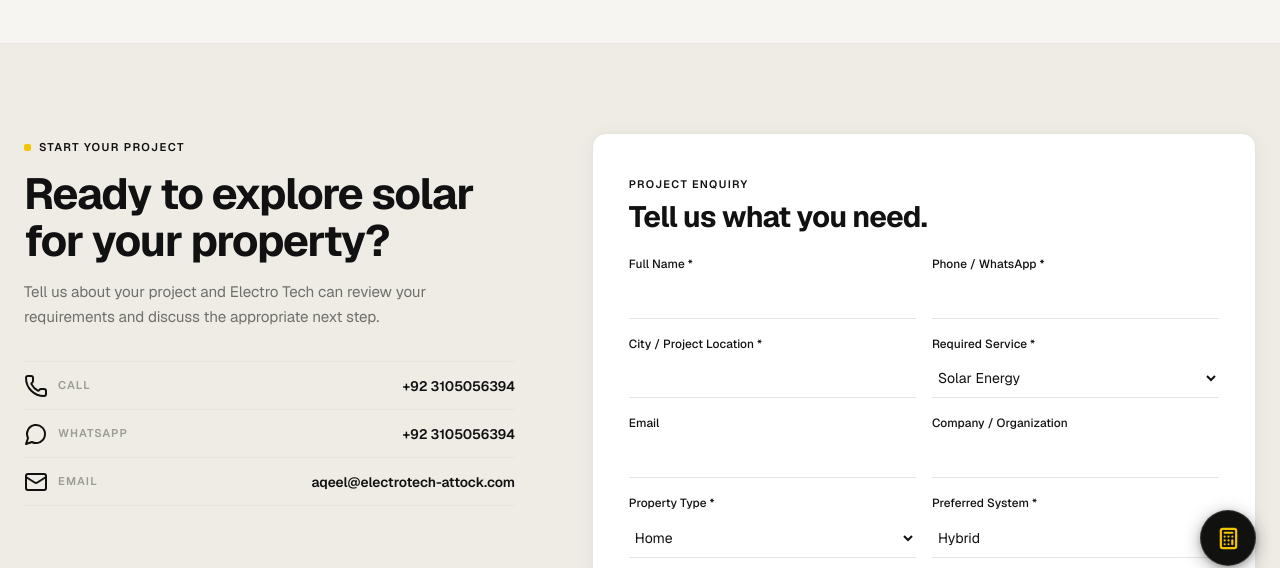
Scenario: email failure keeps the form and exposes the prepared WhatsApp fallback
(page scrolled)
Type "Test Customer" into the field labelled "Full Name *" at (772, 298), box [629, 278, 916, 318]
(page scrolled)
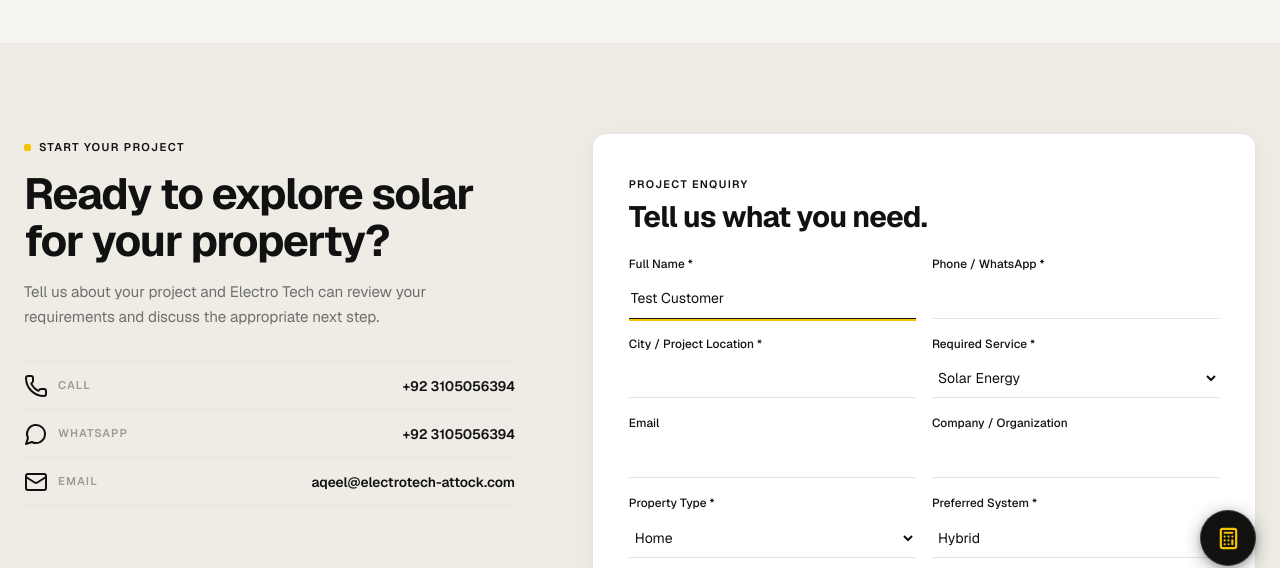
Type "+92 310 5056394" into the field labelled "Phone / WhatsApp *" at (1075, 298), box [932, 278, 1219, 318]
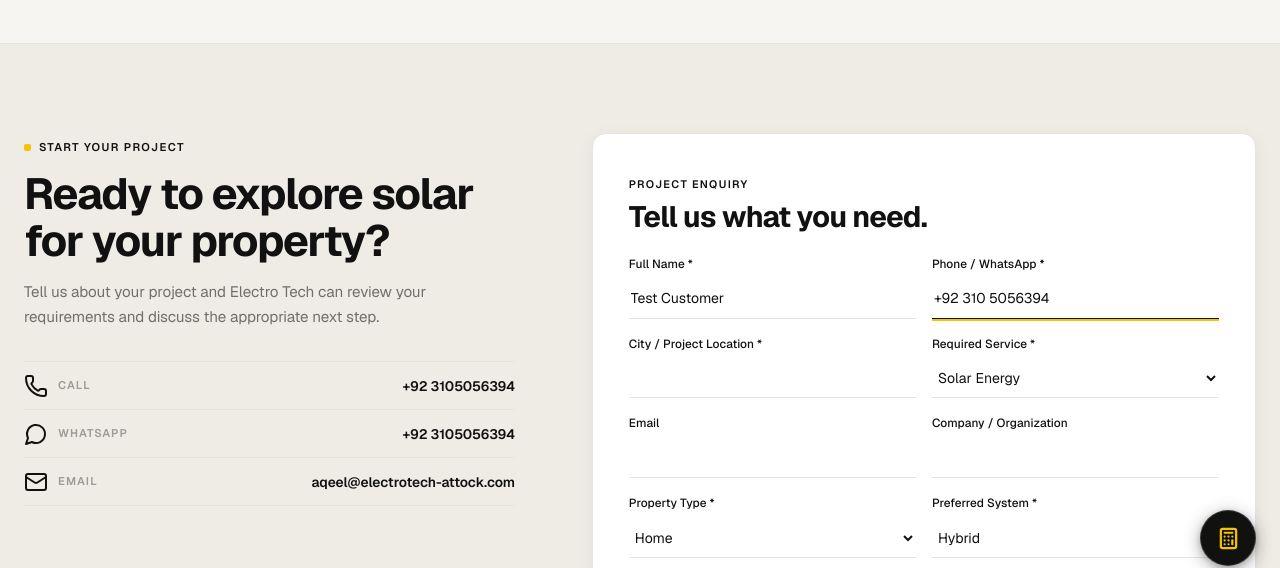
Type "Attock" into the field labelled "City / Project Location *" at (772, 378), box [629, 358, 916, 398]
(page scrolled)
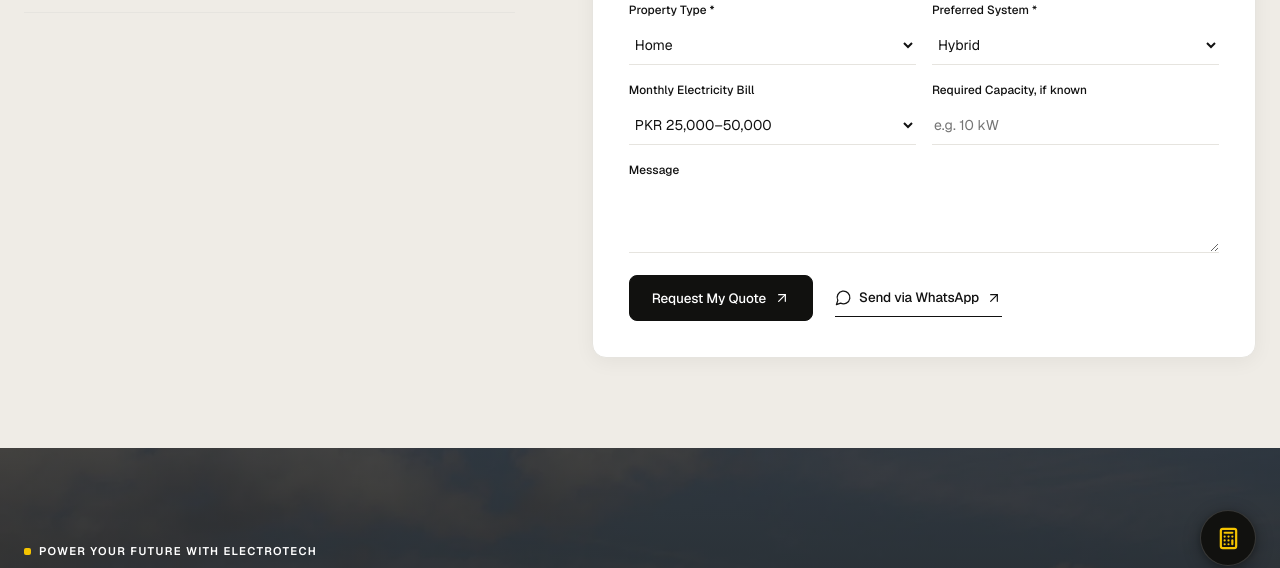
Click the button "Request My Quote" at (721, 298), box [629, 275, 813, 321]
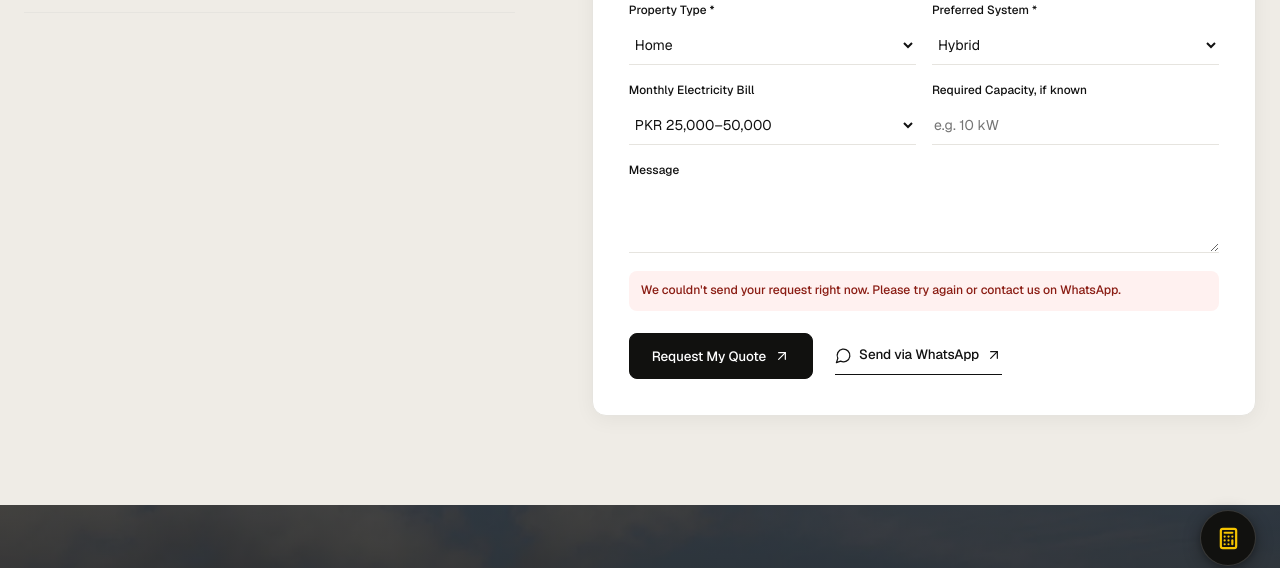
Now the message shows "couldn't send your request right now", box [641, 282, 1121, 298]
